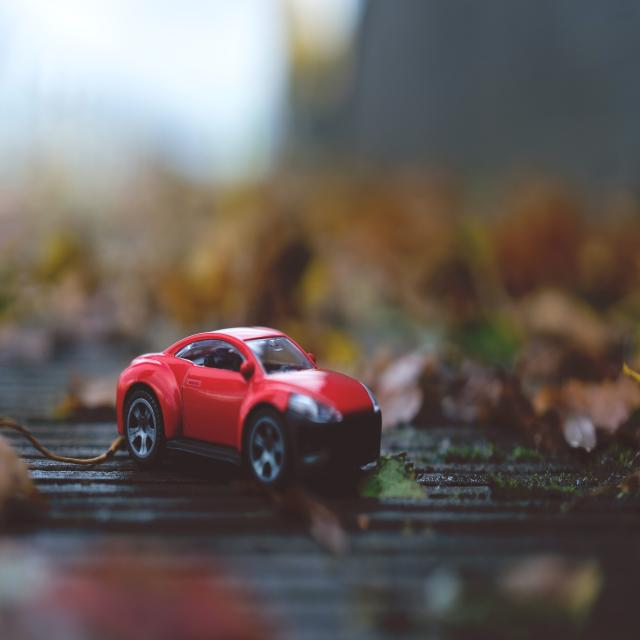Car: (116, 328, 382, 489)
